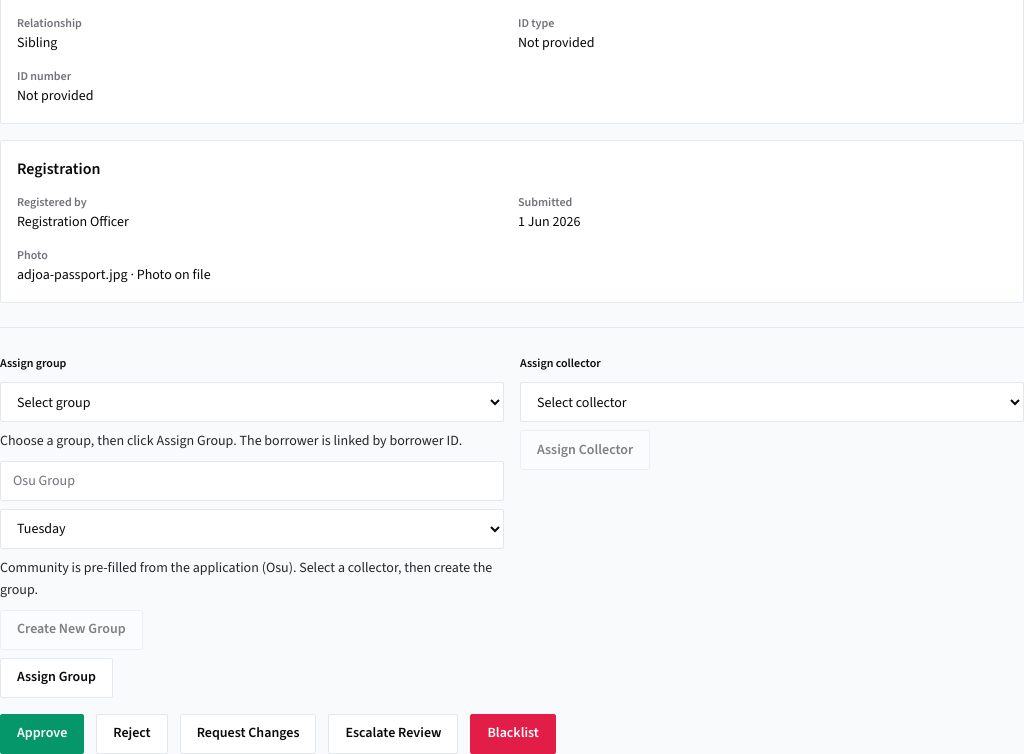
Test: PendingApplicationReview › requires a reason before rejecting an application
The image size is (1024, 754).
(page scrolled)
Step 1. Click the button "Reject" → x=132, y=734, box [96,714,168,753]
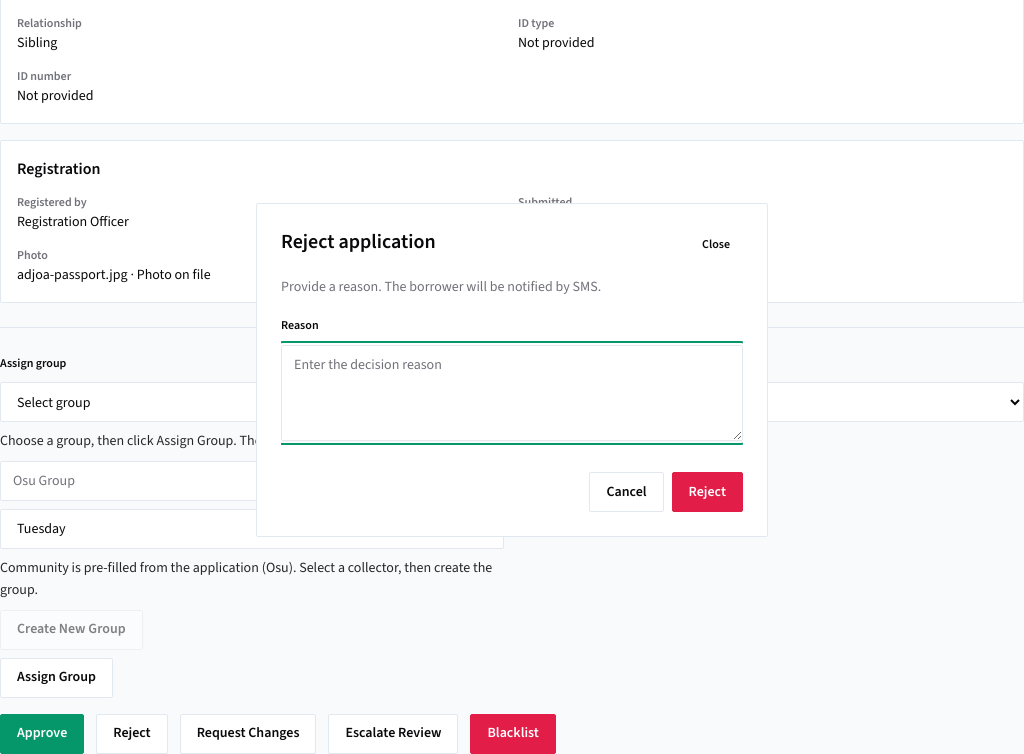
Step 2. Click the button with aria-label "Confirm reject" → x=707, y=492, box [672,472,743,512]
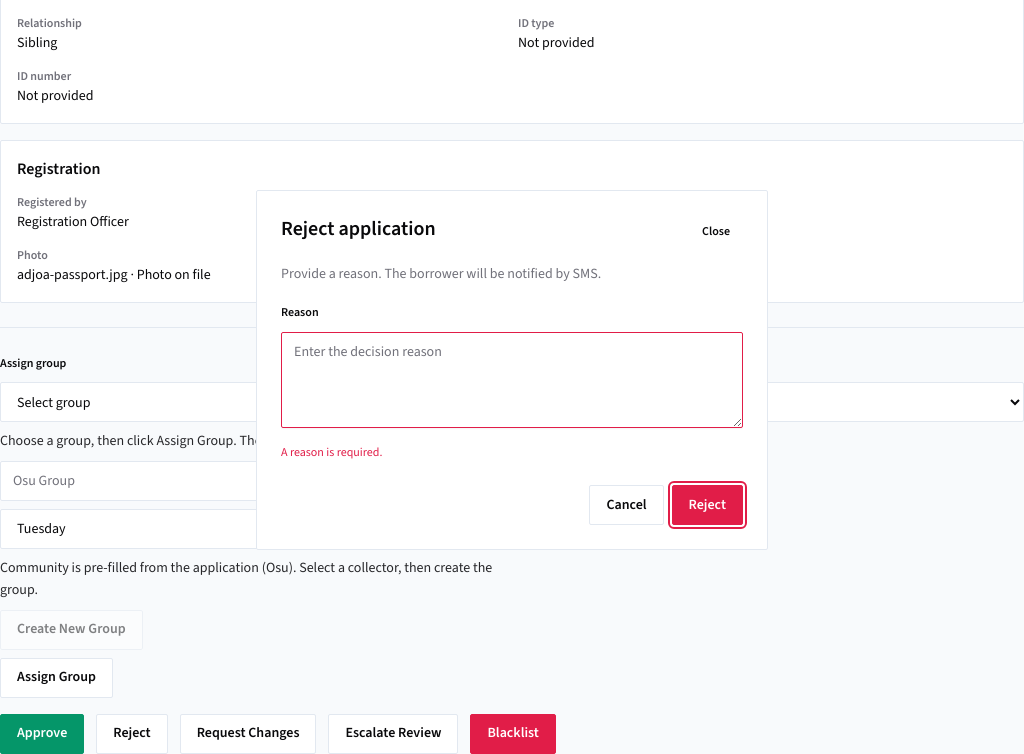
Expected: the text "A reason is required." is shown, [281,444,382,460]
